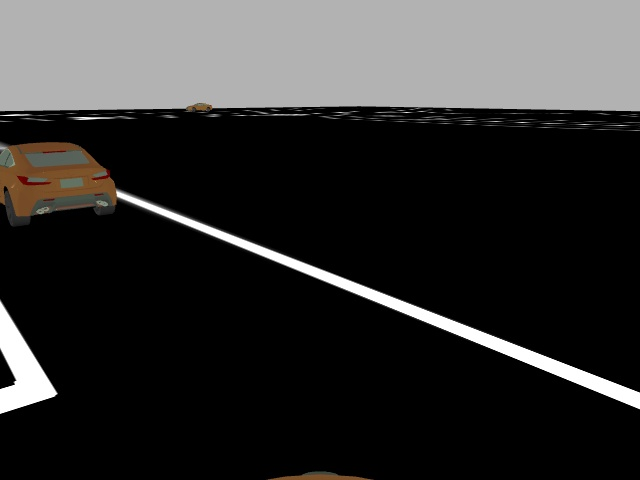obstacle_car: (1, 139, 117, 231)
